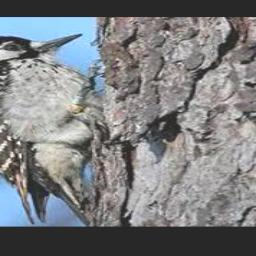Woodpecker: (0, 34, 142, 226)
